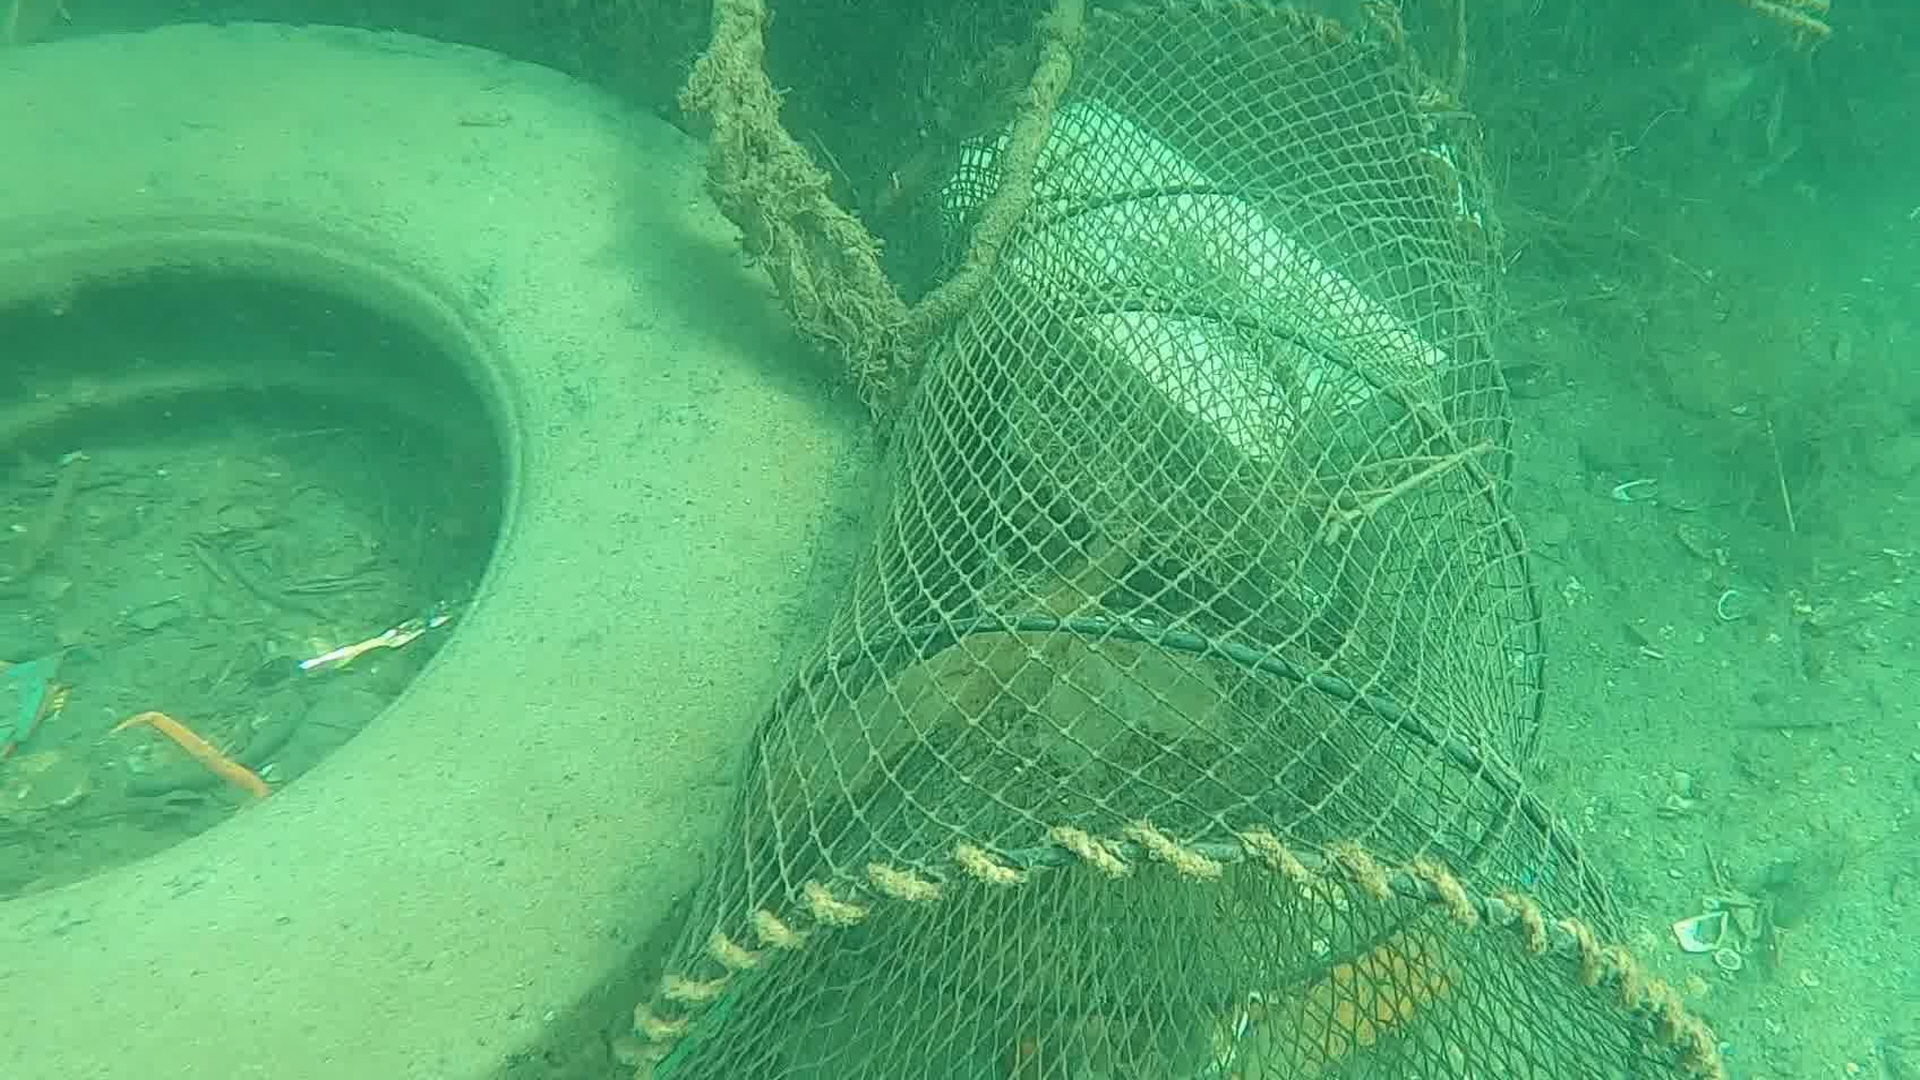spring fish trap: (604, 0, 1725, 1080)
tire: (0, 20, 884, 1080)
